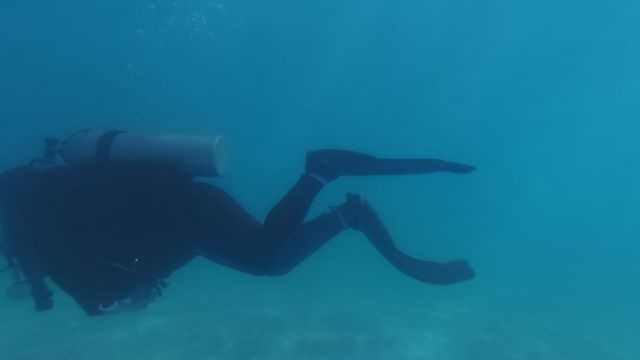Diver: (8, 127, 496, 323)
